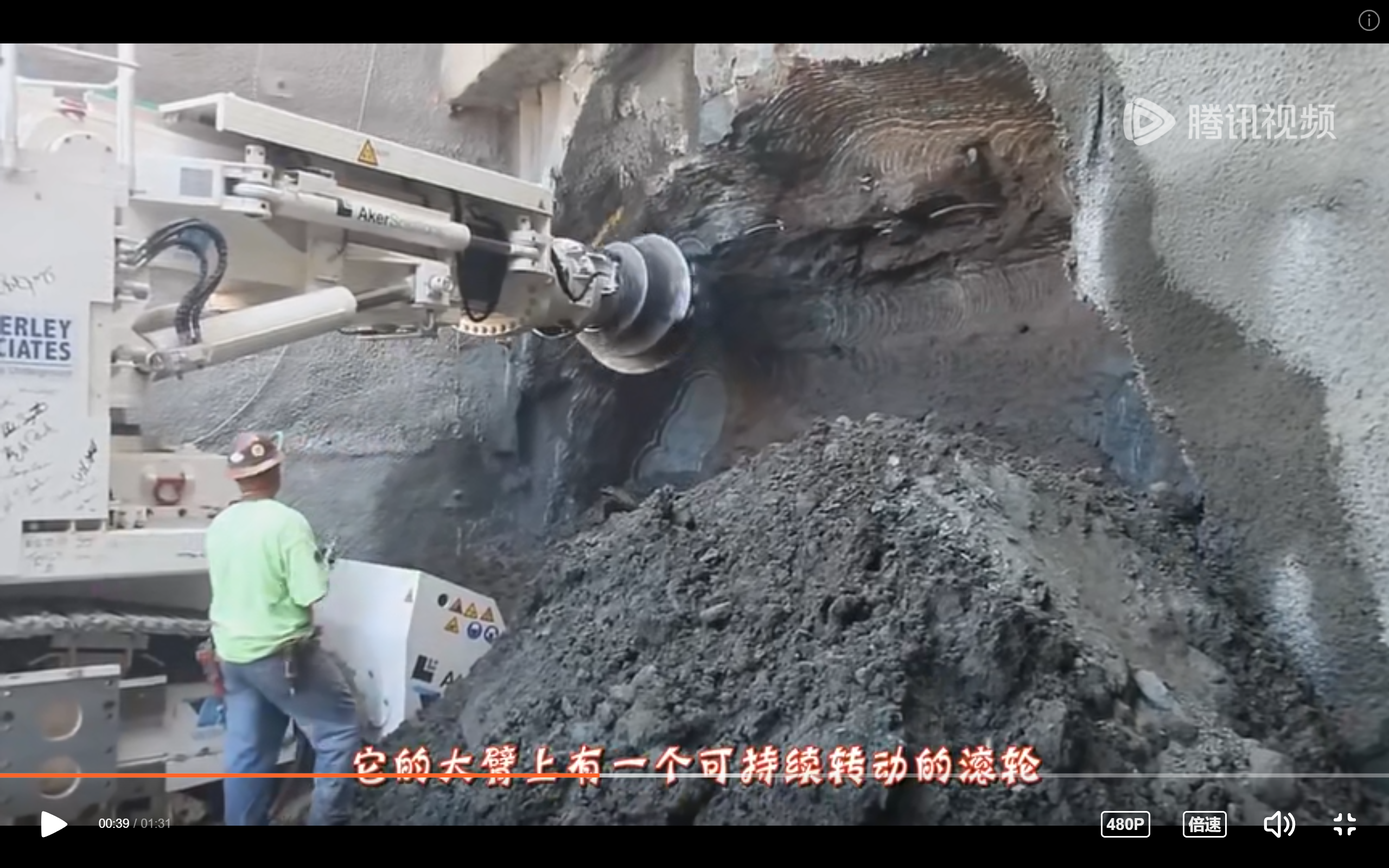device: (202, 428, 364, 822)
person: (0, 70, 713, 817)
